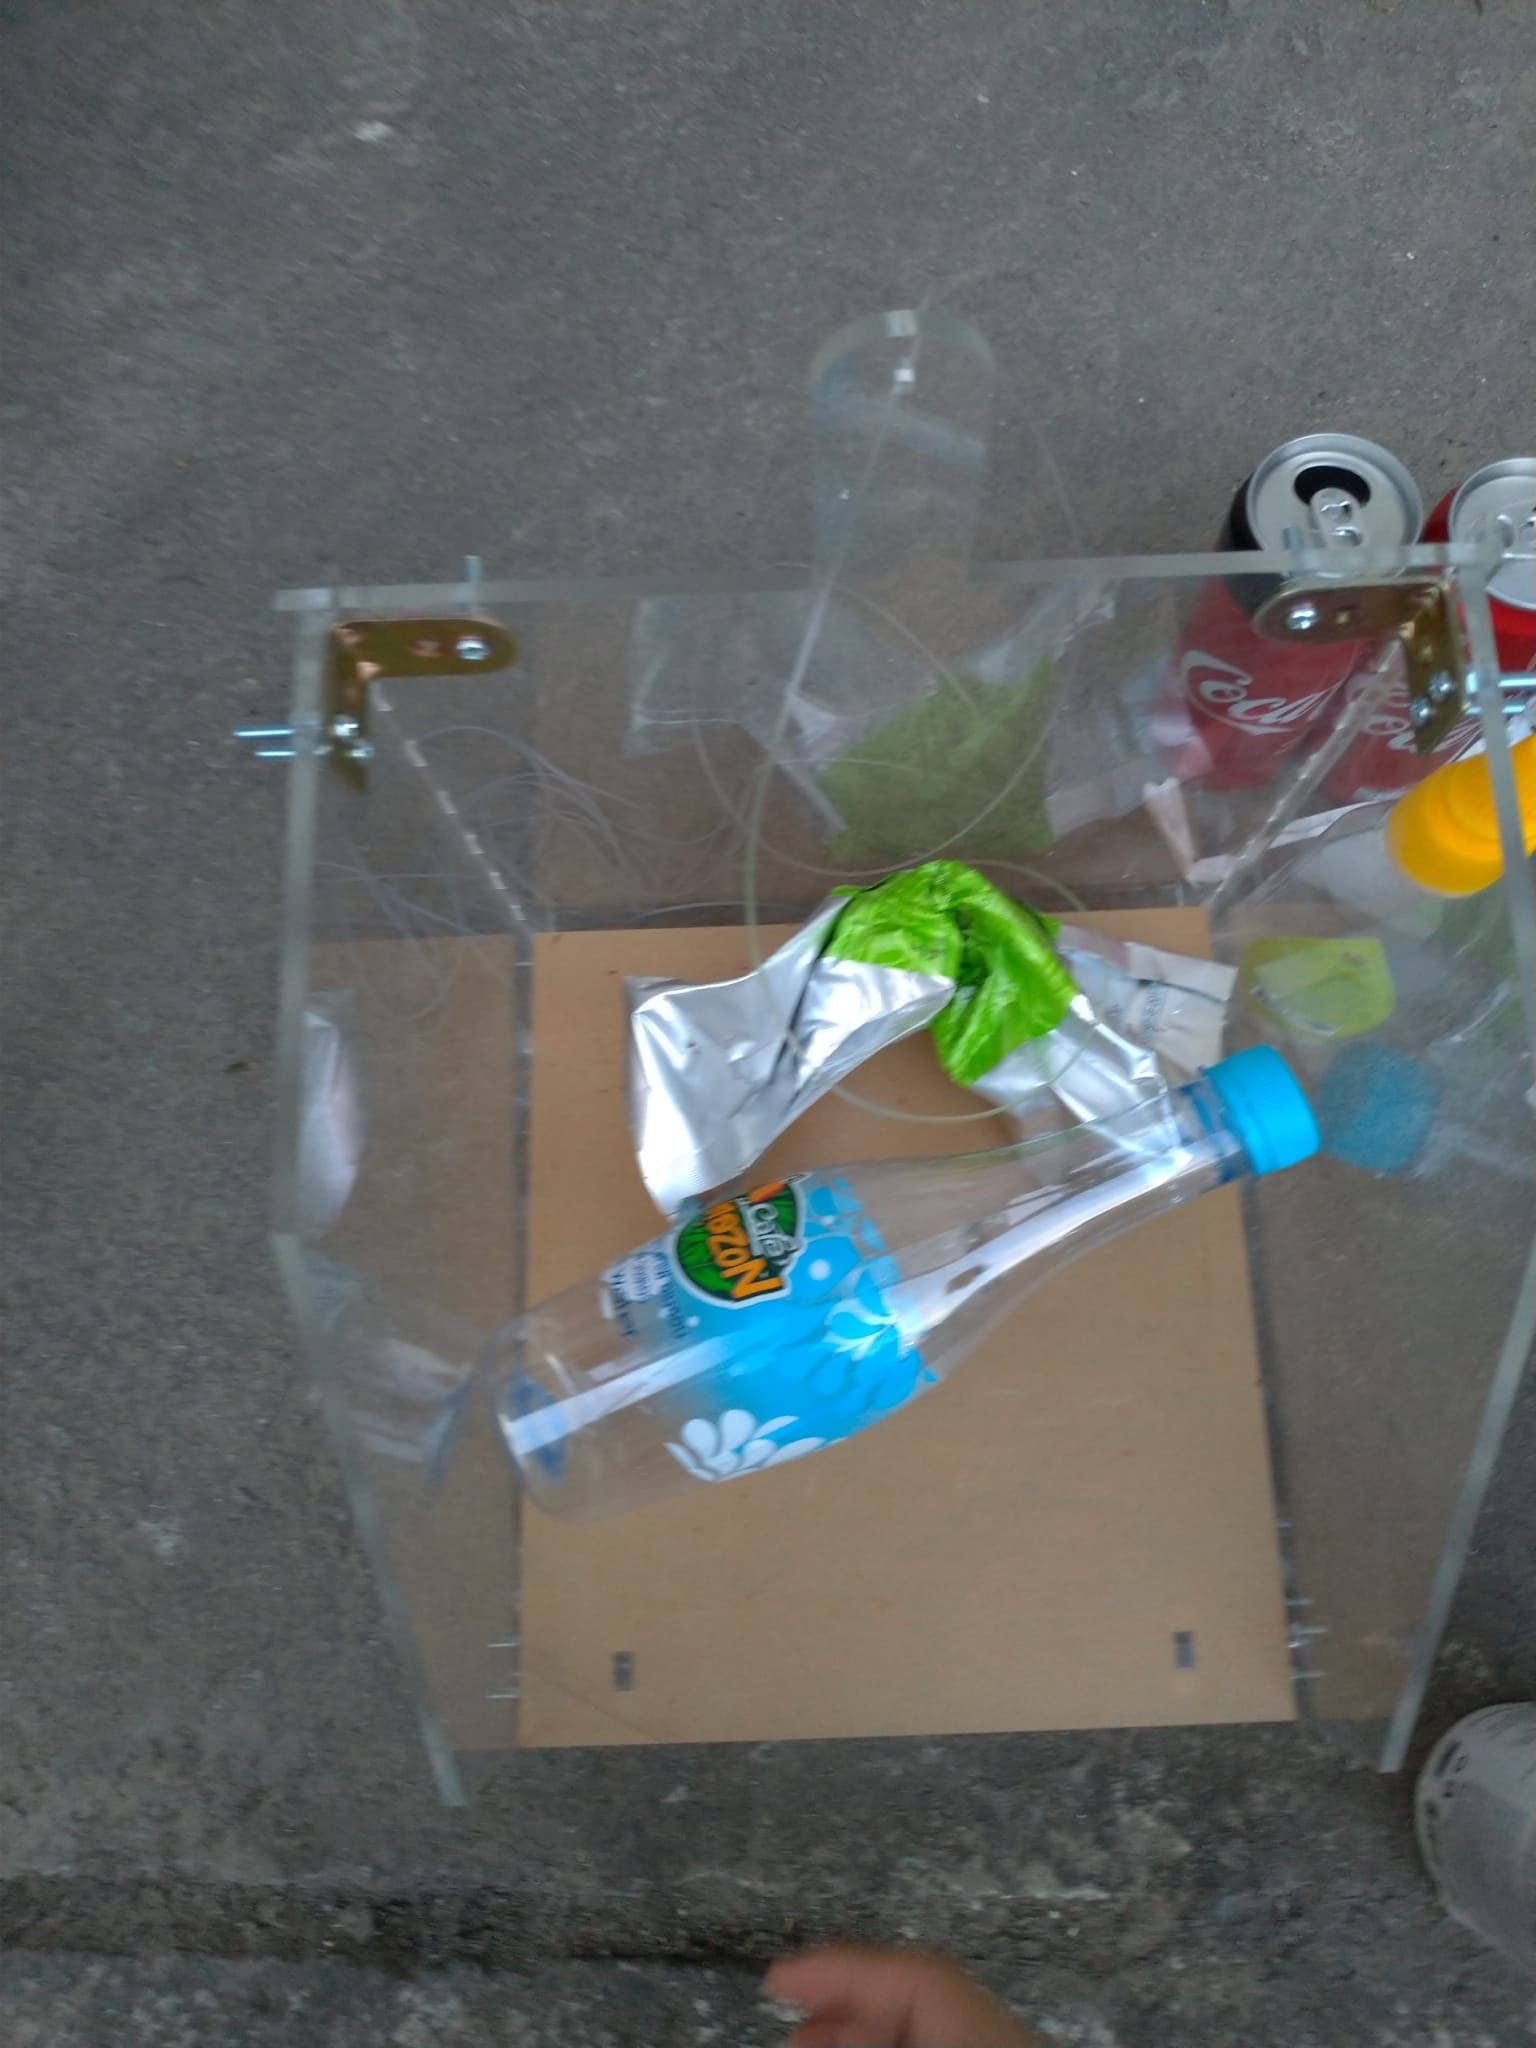AlCan: (1154, 418, 1412, 797), (1349, 447, 1536, 792)
Others: (616, 864, 1238, 1201)
PlasticBottle: (486, 1051, 1326, 1526), (1204, 727, 1525, 1089)
